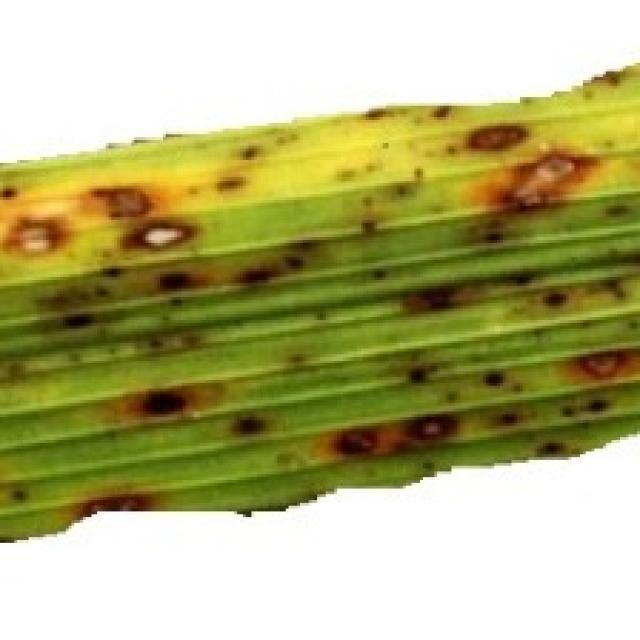Rice___Brown_Spot: (0, 62, 637, 548)
